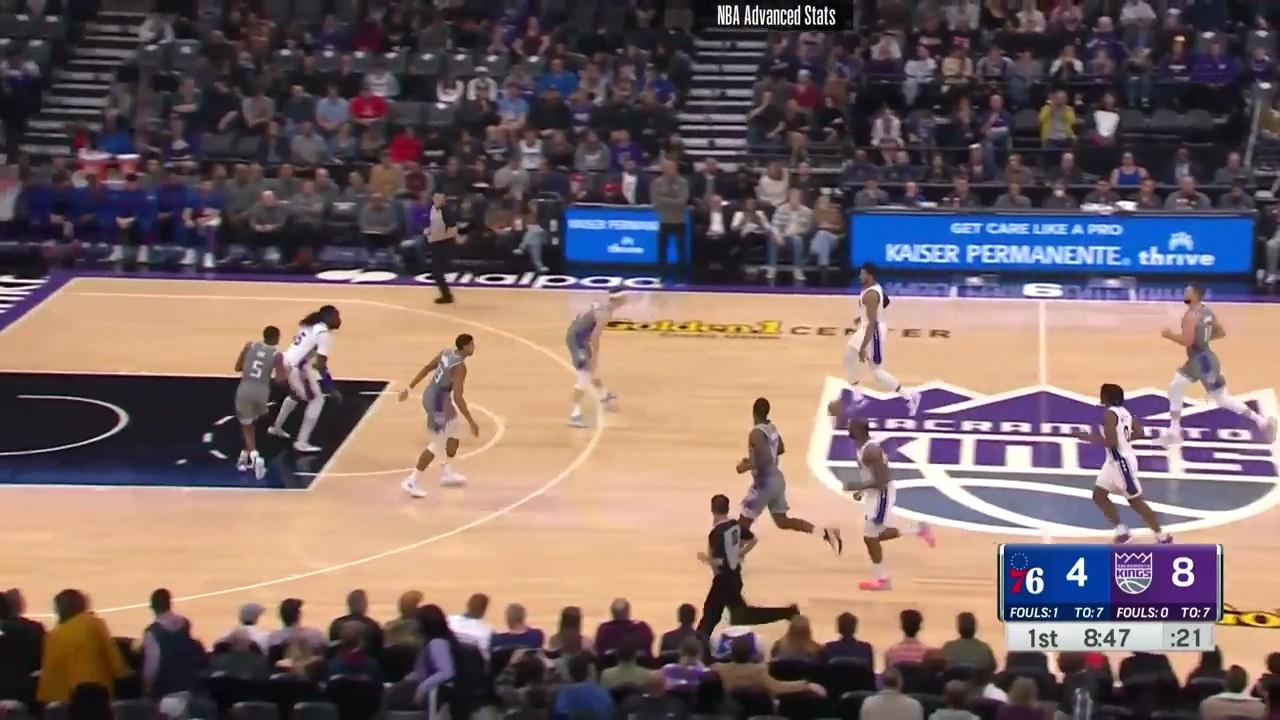Ball: (828, 398, 847, 419)
Person: (842, 414, 939, 588), (726, 399, 825, 558), (1165, 283, 1266, 438), (1086, 382, 1175, 546), (397, 333, 483, 500), (838, 262, 927, 418), (557, 282, 634, 426), (276, 301, 345, 459), (225, 322, 290, 481)
Referee: (695, 490, 776, 628), (411, 188, 470, 308)
